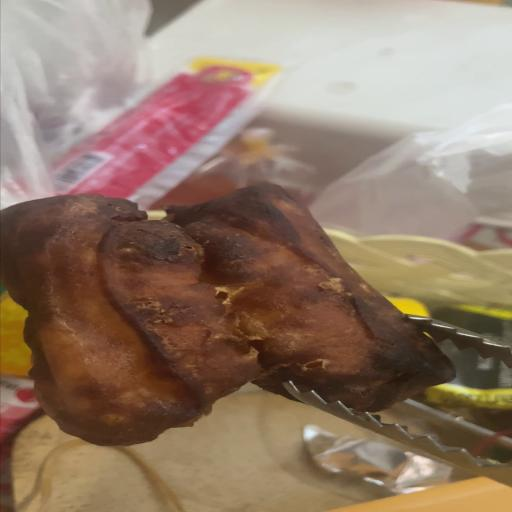street_burnt_defect: (0, 185, 455, 446)
